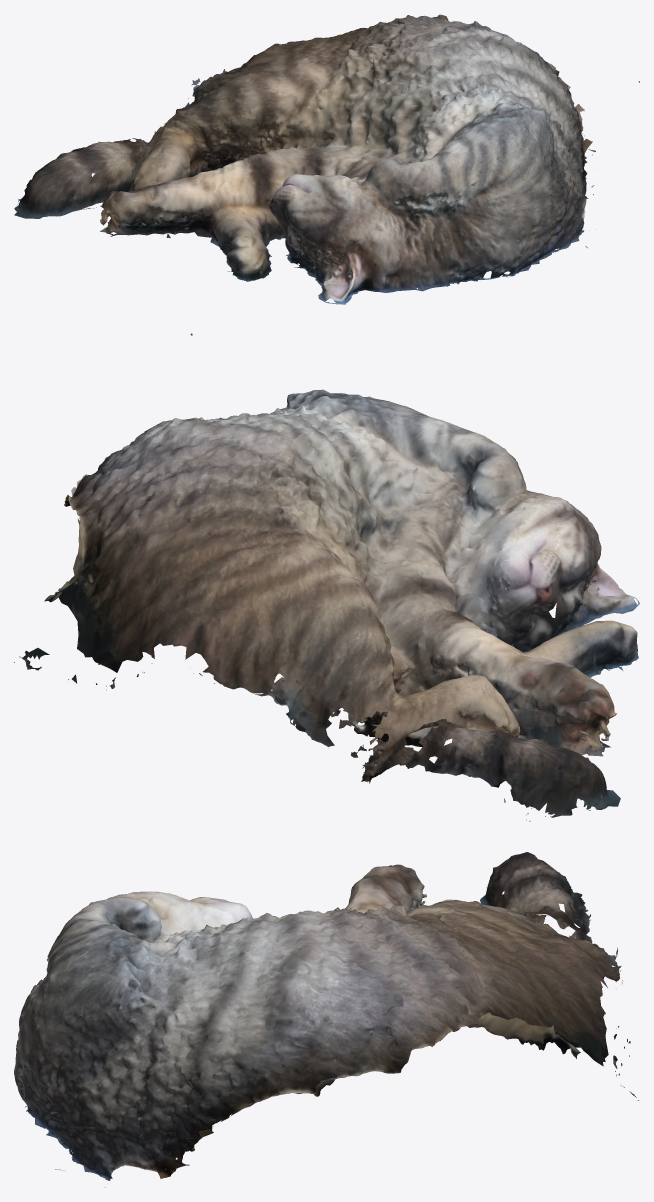
The model's file is cat.glb.
3 renders of one model, top to bottom at view 1: azimuth 30°, elevation 25°; view 2: azimuth 150°, elevation 25°; view 3: azimuth 270°, elevation 25°, orthographic. The views are drawn at different scales.
Parts seen in each view (by area): view 1: default_0, default_0.001; view 2: default_0, default_0.001; view 3: default_0, default_0.001.
Part boxes in pixels (x1,y1,x2,y2): default_0: (14,14,639,304); default_0.001: (18,17,595,303); default_0: (49,333,639,817); default_0.001: (14,391,637,821); default_0: (14,852,621,1180); default_0.001: (14,854,639,1187).
Bounding box in the file's own units: 3.64 × 1.12 × 3.01.
1 material, 1 textured.
